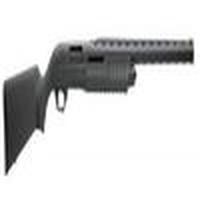gun: (1, 38, 200, 174)
